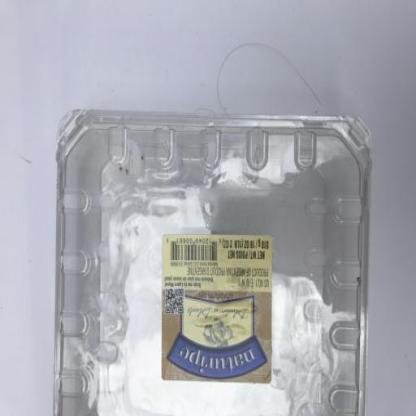trash: (54, 108, 371, 416)
